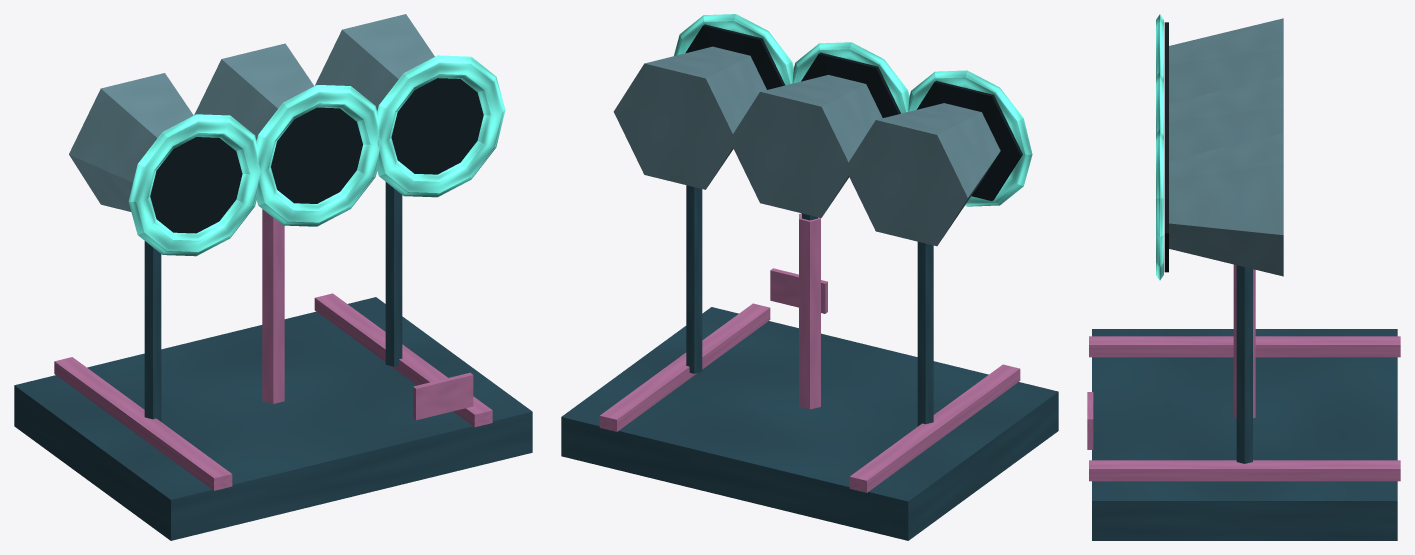
File: atlas100-s066-a01.lod1.glb
The picture shows the model from 3 angles, left to right: view 1: azimuth 30°, elevation 25°; view 2: azimuth 150°, elevation 25°; view 3: azimuth 270°, elevation 25°; orthographic projection. The views are drawn at different scales.
Parts seen in each view (by area): view 1: atlas100-s066-a01:part-000, atlas100-s066-a01:part-006, atlas100-s066-a01:part-008, atlas100-s066-a01:part-016, atlas100-s066-a01:part-012, atlas100-s066-a01:part-007, atlas100-s066-a01:part-015, atlas100-s066-a01:part-011, atlas100-s066-a01:part-010, atlas100-s066-a01:part-014, atlas100-s066-a01:part-001, atlas100-s066-a01:part-003 (+4 smaller); view 2: atlas100-s066-a01:part-000, atlas100-s066-a01:part-006, atlas100-s066-a01:part-014, atlas100-s066-a01:part-010, atlas100-s066-a01:part-001, atlas100-s066-a01:part-002, atlas100-s066-a01:part-003, atlas100-s066-a01:part-007, atlas100-s066-a01:part-008, atlas100-s066-a01:part-013, atlas100-s066-a01:part-005, atlas100-s066-a01:part-011 (+4 smaller); view 3: atlas100-s066-a01:part-000, atlas100-s066-a01:part-014, atlas100-s066-a01:part-002, atlas100-s066-a01:part-010, atlas100-s066-a01:part-006, atlas100-s066-a01:part-001, atlas100-s066-a01:part-013, atlas100-s066-a01:part-016, atlas100-s066-a01:part-003, atlas100-s066-a01:part-015, atlas100-s066-a01:part-008, atlas100-s066-a01:part-012 (+1 smaller).
Part boxes in pixels (box(x1,y1,x2,y2)): atlas100-s066-a01:part-000: box(14, 297, 532, 540); atlas100-s066-a01:part-006: box(69, 73, 193, 211); atlas100-s066-a01:part-008: box(128, 114, 260, 256); atlas100-s066-a01:part-016: box(377, 55, 505, 197); atlas100-s066-a01:part-012: box(256, 85, 381, 226); atlas100-s066-a01:part-007: box(150, 137, 242, 233); atlas100-s066-a01:part-015: box(391, 78, 483, 174); atlas100-s066-a01:part-011: box(271, 107, 362, 203); atlas100-s066-a01:part-010: box(194, 43, 313, 140); atlas100-s066-a01:part-014: box(315, 14, 434, 110); atlas100-s066-a01:part-001: box(54, 357, 232, 490); atlas100-s066-a01:part-003: box(262, 209, 284, 403); atlas100-s066-a01:part-000: box(561, 307, 1058, 540); atlas100-s066-a01:part-006: box(845, 103, 1000, 246); atlas100-s066-a01:part-014: box(613, 46, 766, 189); atlas100-s066-a01:part-010: box(729, 75, 882, 217); atlas100-s066-a01:part-001: box(849, 364, 1020, 492); atlas100-s066-a01:part-002: box(599, 303, 770, 431); atlas100-s066-a01:part-003: box(799, 213, 820, 409); atlas100-s066-a01:part-007: box(917, 80, 1022, 200); atlas100-s066-a01:part-008: box(908, 70, 1032, 206); atlas100-s066-a01:part-013: box(686, 185, 702, 373); atlas100-s066-a01:part-005: box(917, 242, 933, 426); atlas100-s066-a01:part-011: box(801, 52, 900, 117); atlas100-s066-a01:part-000: box(1092, 329, 1397, 540); atlas100-s066-a01:part-014: box(1169, 133, 1283, 276); atlas100-s066-a01:part-002: box(1089, 460, 1400, 481); atlas100-s066-a01:part-010: box(1169, 75, 1283, 160); atlas100-s066-a01:part-006: box(1169, 18, 1283, 103); atlas100-s066-a01:part-001: box(1089, 336, 1400, 357); atlas100-s066-a01:part-013: box(1236, 265, 1252, 463); atlas100-s066-a01:part-016: box(1156, 129, 1163, 280); atlas100-s066-a01:part-003: box(1233, 264, 1255, 418); atlas100-s066-a01:part-015: box(1164, 137, 1168, 272); atlas100-s066-a01:part-008: box(1156, 14, 1163, 76); atlas100-s066-a01:part-012: box(1156, 72, 1163, 133).
Bounding box in the file's own units: 2.5 × 2.45 × 1.85.
5 materials, 5 textured.
